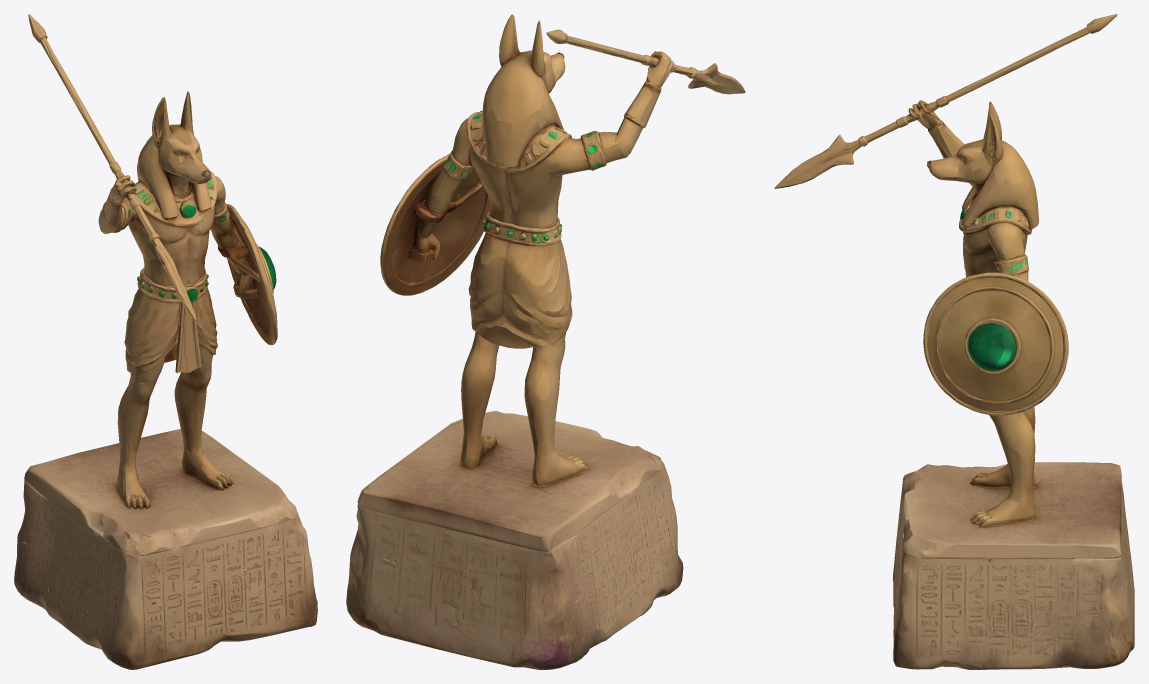
Rendered from et_statue.glb.
The picture shows the model from 3 angles, left to right: view 1: azimuth 30°, elevation 25°; view 2: azimuth 150°, elevation 25°; view 3: azimuth 270°, elevation 25°; orthographic projection. The views are drawn at different scales.
Size of the model in its own units: 0.7186 by 1.9 by 1.09.
Materials: 1 (1 with a texture image).
